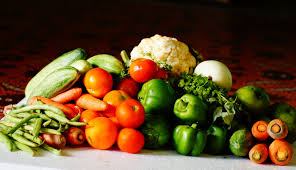Carrots: (54, 88, 87, 106)
Lettuce: (131, 36, 199, 75)
Tomato: (83, 117, 116, 150), (116, 128, 142, 152)
